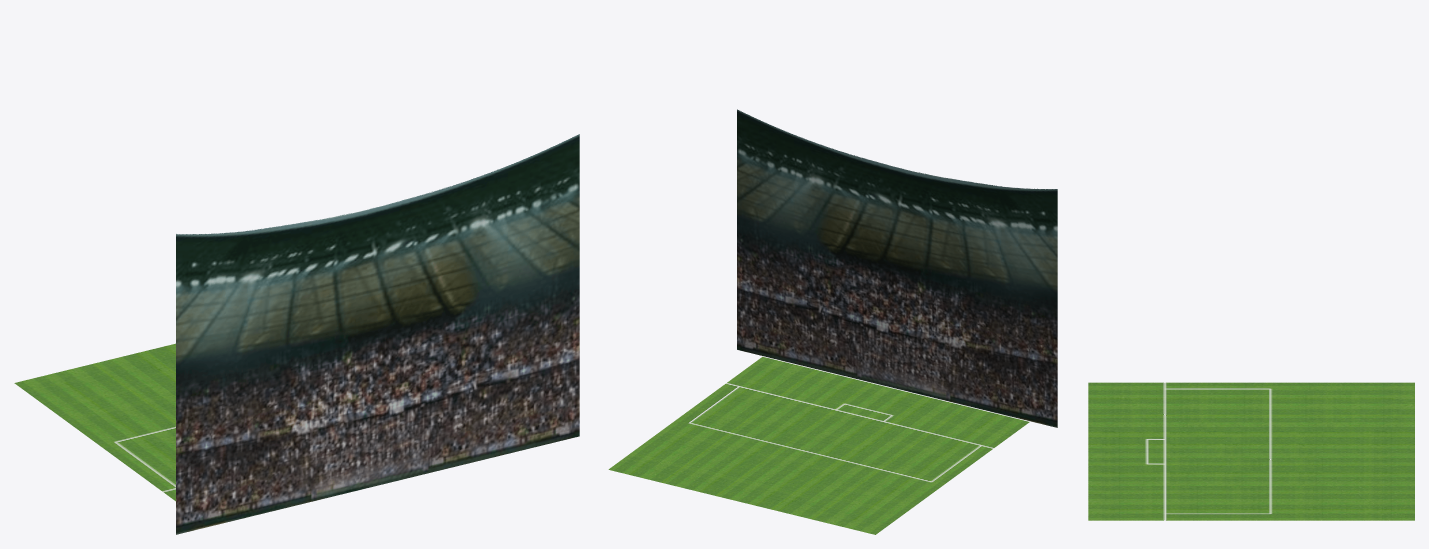
File: grass_stadium_3.glb
The picture shows the model from 3 angles, left to right: view 1: azimuth 30°, elevation 25°; view 2: azimuth 150°, elevation 25°; view 3: azimuth 270°, elevation 25°; orthographic projection. The views are drawn at different scales.
Parts seen in each view (by area): view 1: Plane.001, Plane; view 2: Plane.001, Plane; view 3: Plane.
Boxes of the visible parts, box(x1,y1,x2,y2) form: Plane.001: box(176, 134, 579, 534); Plane: box(14, 343, 175, 501); Plane.001: box(737, 109, 1057, 427); Plane: box(608, 356, 1029, 534); Plane: box(1088, 382, 1414, 520).
Bounding box in the file's own units: 6 × 6 × 5.03.
Materials: 2 (2 with a texture image).
